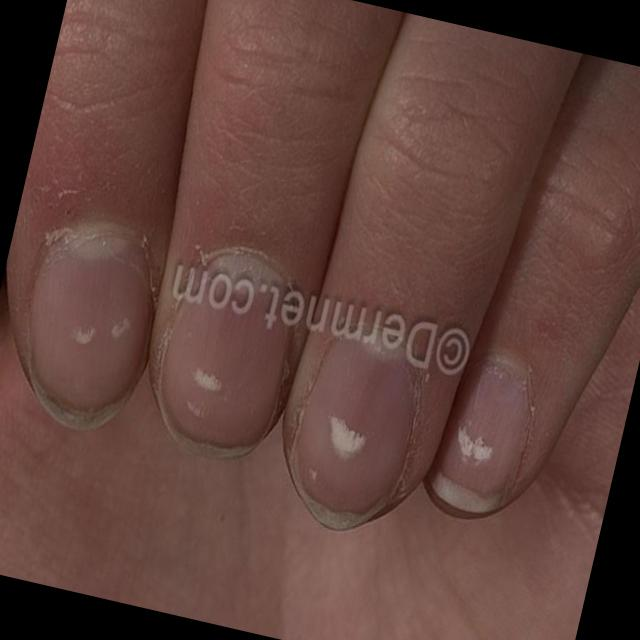Nail: (156, 250, 291, 461), (286, 323, 414, 530), (27, 223, 153, 430), (426, 359, 525, 509)
